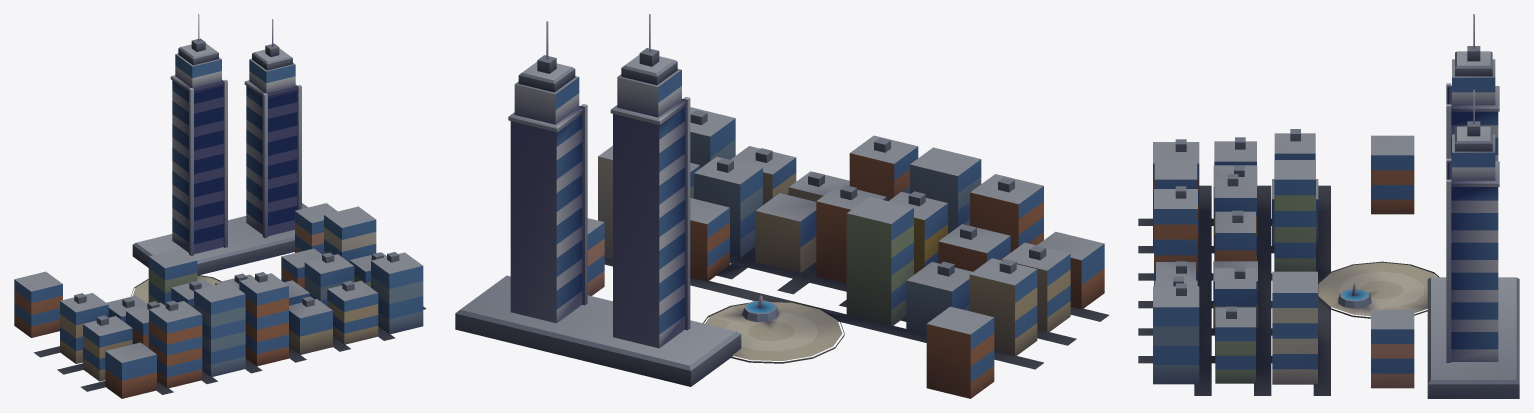
Rendered from caracas.glb.
3 renders of one model, left to right at view 1: azimuth 30°, elevation 25°; view 2: azimuth 150°, elevation 25°; view 3: azimuth 270°, elevation 25°, orthographic. The views are drawn at different scales.
Visible parts, largest first — view 1: midrise, towers, streets, plaza; view 2: midrise, towers, plaza, streets; view 3: midrise, towers, streets, plaza.
Part boxes in pixels (bbox=[...]): midrise: bbox=[14, 203, 423, 398]; towers: bbox=[132, 14, 307, 274]; streets: bbox=[33, 306, 426, 394]; plaza: bbox=[131, 274, 221, 303]; midrise: bbox=[587, 107, 1104, 398]; towers: bbox=[455, 14, 741, 386]; plaza: bbox=[703, 295, 844, 363]; streets: bbox=[604, 247, 1109, 369]; midrise: bbox=[1153, 129, 1414, 388]; towers: bbox=[1427, 14, 1519, 398]; streets: bbox=[1138, 185, 1330, 395]; plaza: bbox=[1318, 261, 1439, 318].
Bounding box in the file's own units: 93 × 63 × 70.5.
